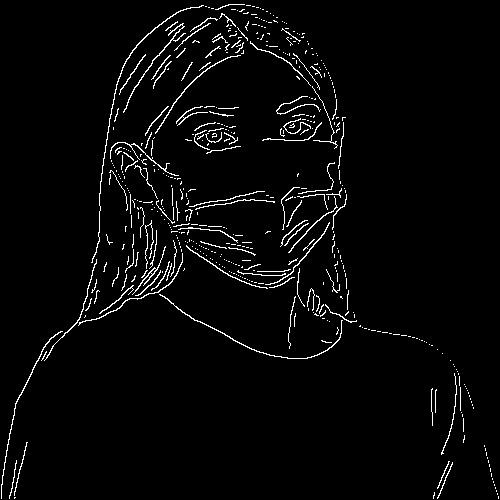mask: (163, 143, 344, 291)
